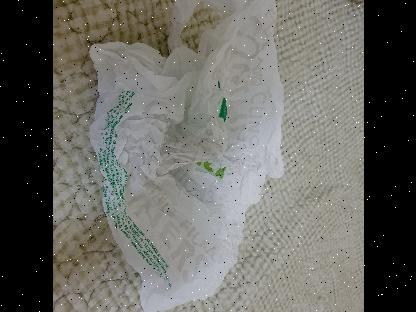Others: (88, 0, 285, 312)
